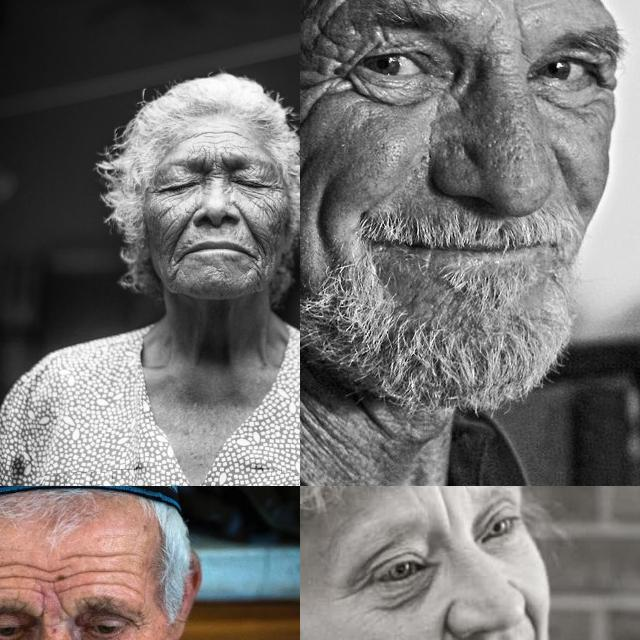crows_feet: (300, 52, 345, 109), (345, 570, 375, 594)
forehead: (190, 121, 238, 143), (22, 559, 54, 587), (91, 565, 125, 591), (98, 545, 134, 565), (59, 569, 86, 593), (64, 545, 90, 565), (0, 557, 17, 582), (422, 486, 447, 501), (0, 582, 19, 597)
frown_line: (506, 12, 536, 62), (51, 592, 74, 620), (201, 149, 227, 173), (36, 592, 50, 622)
gummy_smile: (517, 596, 542, 640), (231, 202, 257, 242), (172, 212, 192, 246), (422, 617, 447, 640)
masseter: (310, 188, 340, 250), (262, 195, 284, 223)
sad_smile: (248, 253, 264, 287), (165, 254, 181, 280)
